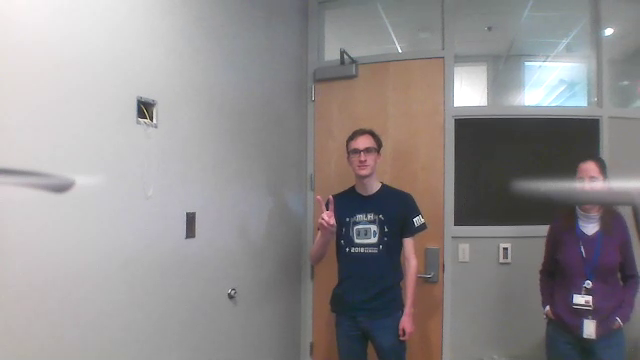peace: (315, 193, 339, 235)
